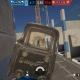Character: (37, 38, 40, 46)
Head: (38, 39, 40, 40)
